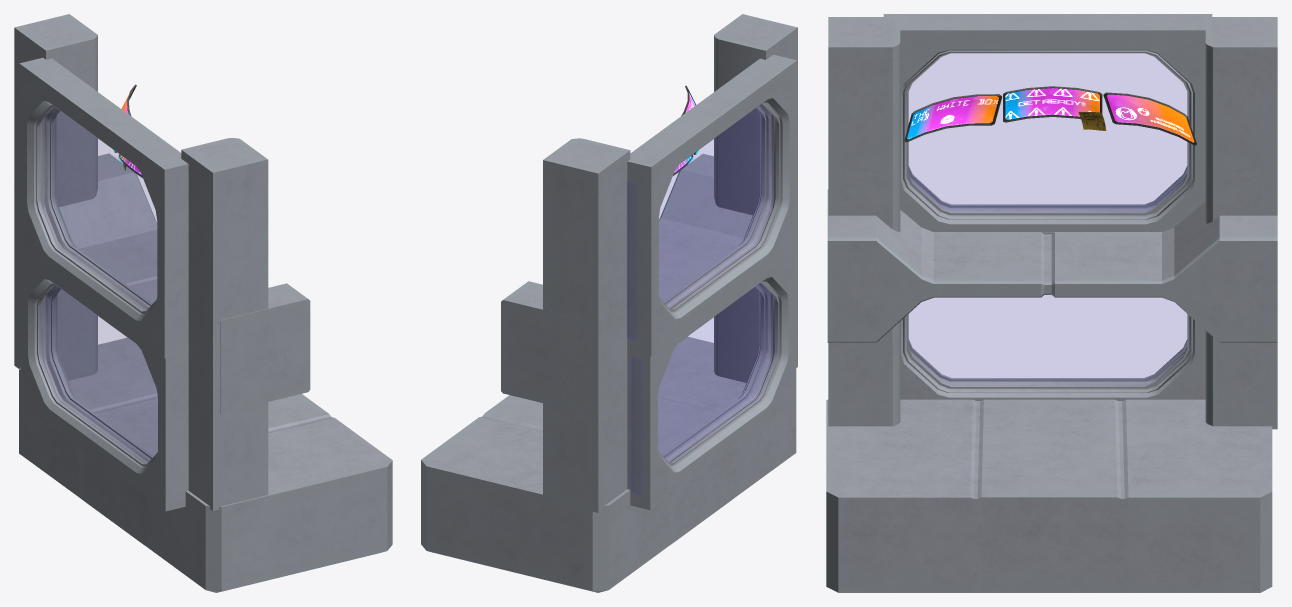
Rendered from white_box_stage.fbx.
The picture shows the model from 3 angles, left to right: view 1: azimuth 30°, elevation 25°; view 2: azimuth 150°, elevation 25°; view 3: azimuth 270°, elevation 25°; orthographic projection. The views are drawn at different scales.
Visible parts, largest first — view 1: stage, scanline, scanline.001; view 2: stage, scanline, scanline.001; view 3: stage, scanline, scanline.001, monitor_body.004.
Boxes of the visible parts, left/top/right/bottom form: stage: left=14, top=14, right=392, bottom=592; scanline: left=52, top=111, right=156, bottom=303; scanline.001: left=46, top=286, right=157, bottom=461; stage: left=421, top=14, right=797, bottom=592; scanline: left=627, top=108, right=763, bottom=339; scanline.001: left=632, top=284, right=769, bottom=493; stage: left=826, top=14, right=1277, bottom=592; scanline: left=909, top=54, right=1186, bottom=210; scanline.001: left=909, top=295, right=1186, bottom=378; monitor_body.004: left=904, top=86, right=1196, bottom=145.
Bounding box in the file's own units: 315 × 616 × 524.
